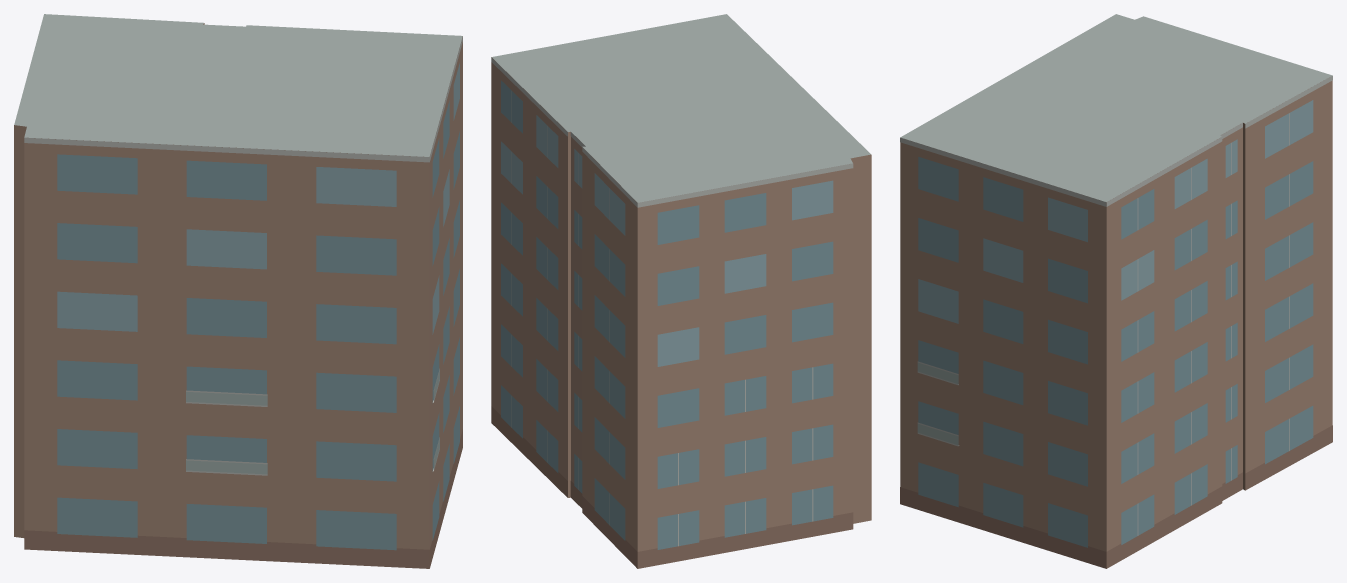
File: survey-upis-32635366.glb
3 views of the same model, side by side, from view 1: azimuth 30°, elevation 25°; view 2: azimuth 150°, elevation 25°; view 3: azimuth 270°, elevation 25° (orthographic). The views are drawn at different scales.
Parts seen in each view (by area): view 1: survey-upis-32635366.tmp; view 2: survey-upis-32635366.tmp; view 3: survey-upis-32635366.tmp.
Part boxes in pixels (x1,y1,x2,y2): survey-upis-32635366.tmp: (14,14,462,568); survey-upis-32635366.tmp: (491,14,871,568); survey-upis-32635366.tmp: (900,14,1332,568).
Size of the model in its own units: 20.48 by 18.6 by 19.9.
